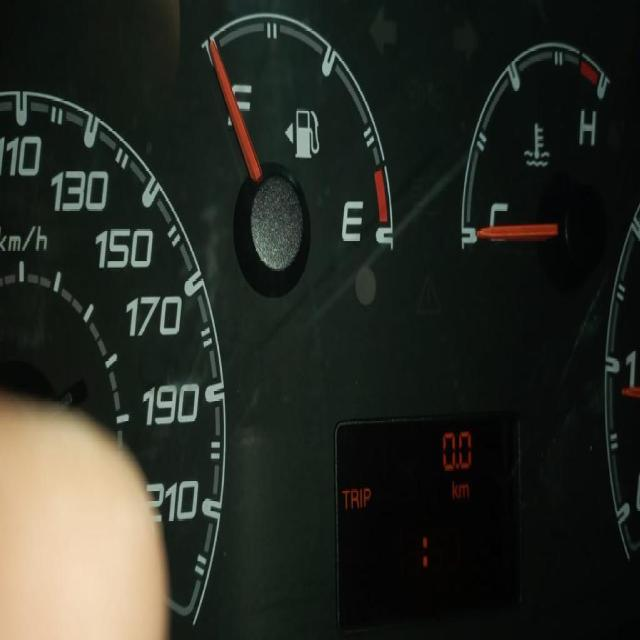odometer: (332, 406, 527, 636)
